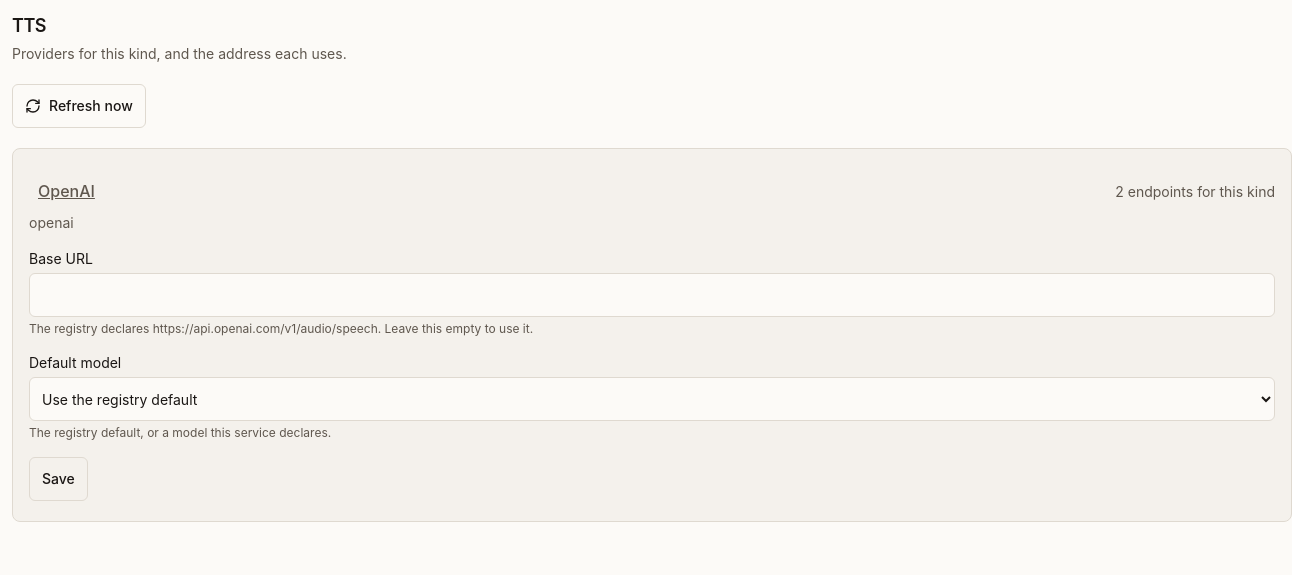
it: what the card shows after a save › names the saved state in the status role
What coordinates should you click on to do the following:
click the button "Save"
I would click on:
 (58, 479)
Its box is x1=29 y1=457 x2=88 y2=501.
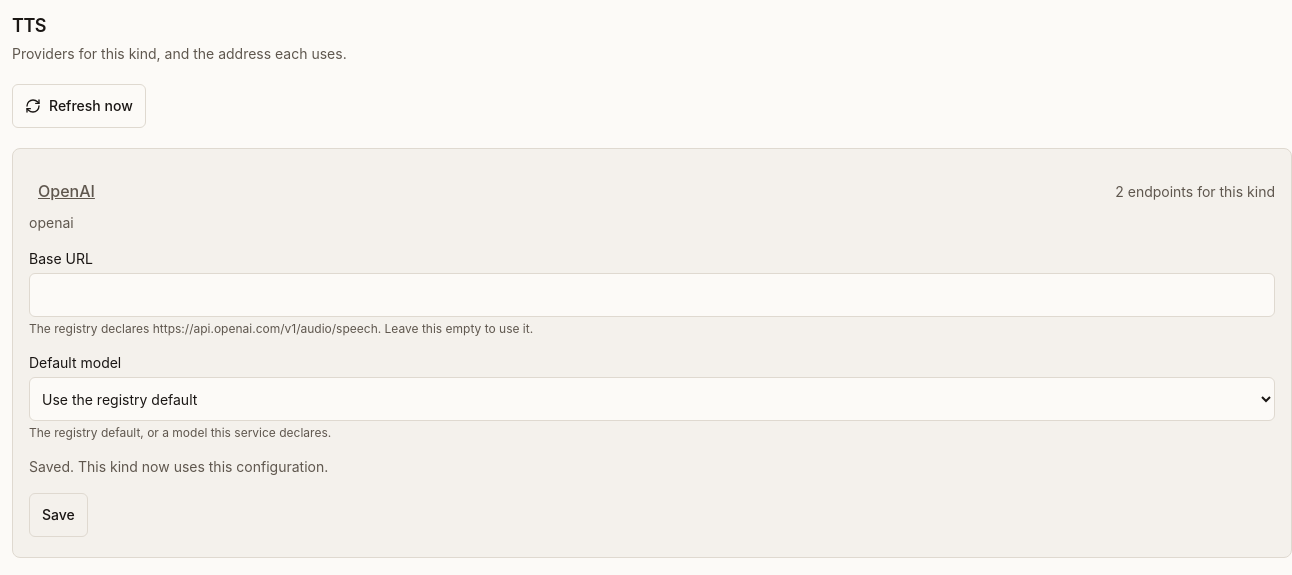
Result: the message "Saved. This kind now uses this configuration." is shown at x1=29 y1=458 x2=328 y2=475
